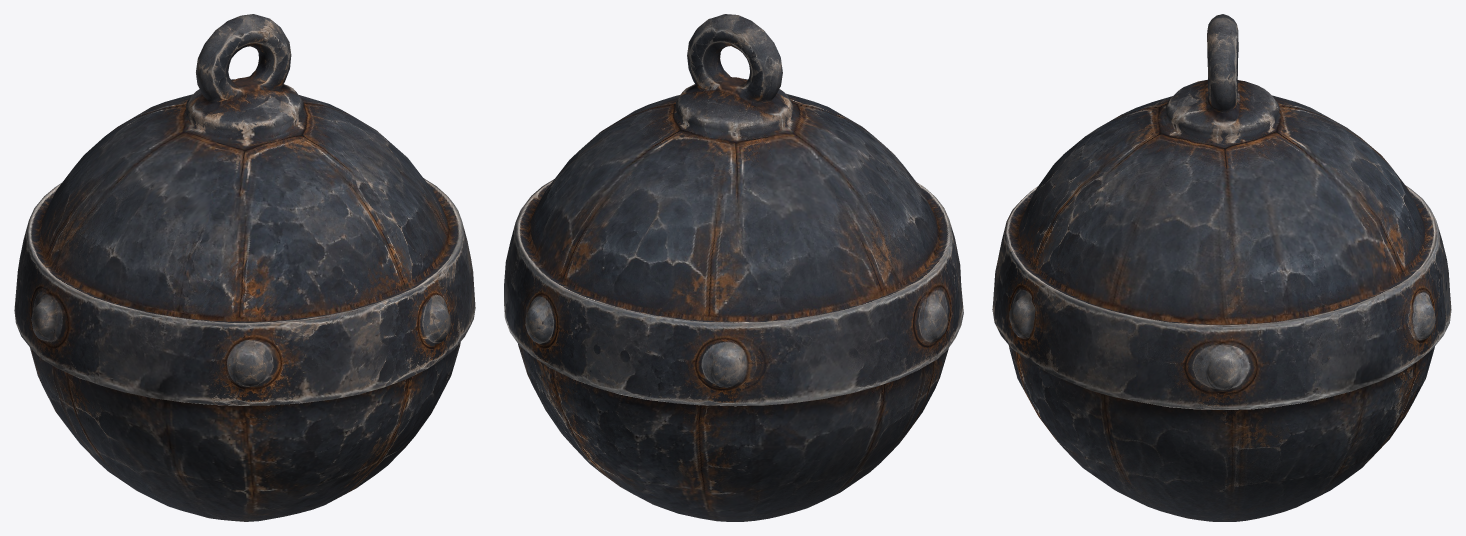
File: iron-weight.glb
3 renders of one model, left to right at view 1: azimuth 30°, elevation 25°; view 2: azimuth 150°, elevation 25°; view 3: azimuth 270°, elevation 25°, orthographic.
Parts seen in each view (by area): view 1: iron-weight_LOD0; view 2: iron-weight_LOD0; view 3: iron-weight_LOD0.
Boxes of the visible parts, x1,y1,x2,y2 form: iron-weight_LOD0: (14,14,475,521); iron-weight_LOD0: (504,14,963,521); iron-weight_LOD0: (992,14,1451,521).
Size of what is drawn, in the model's own units: 0.9063 by 1 by 0.8613.
1 material, 1 textured.
